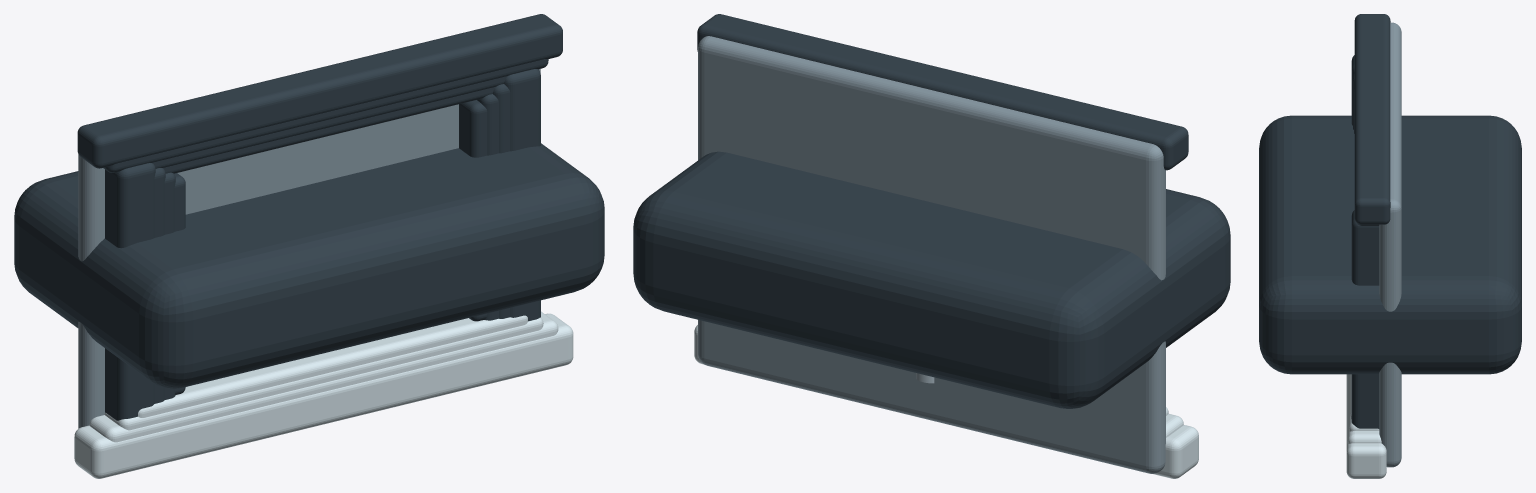
Rendered from body_33.glb.
3 renders of one model, left to right at view 1: azimuth 30°, elevation 25°; view 2: azimuth 150°, elevation 25°; view 3: azimuth 270°, elevation 25°, orthographic. The views are drawn at different scales.
Visible parts, largest first — view 1: asset_mesh__body_1484__reference_body, asset_mesh__body_1482__lower_flange, asset_mesh__body_1482__upper_flange, asset_mesh__body_1482__stamped_sheet, asset_mesh__body_1479__upper_flange, asset_mesh__body_1482__left_reinforcement, asset_mesh__body_1481__upper_flange, asset_mesh__body_1480__upper_flange, asset_mesh__body_1481__lower_flange, asset_mesh__body_1479__lower_flange, asset_mesh__body_1480__lower_flange, asset_mesh__body_1482__right_reinforcement (+6 smaller); view 2: asset_mesh__body_1484__reference_body, asset_mesh__body_1482__stamped_sheet, asset_mesh__body_1482__lower_flange, asset_mesh__body_1482__upper_flange; view 3: asset_mesh__body_1484__reference_body, asset_mesh__body_1482__lower_flange, asset_mesh__body_1482__stamped_sheet, asset_mesh__body_1482__right_reinforcement, asset_mesh__body_1482__upper_flange, asset_mesh__body_1481__upper_flange.
Boxes of the visible parts, x1=… form: asset_mesh__body_1484__reference_body: x1=14, y1=143, x2=604, y2=388; asset_mesh__body_1482__lower_flange: x1=77, y1=14, x2=562, y2=168; asset_mesh__body_1482__upper_flange: x1=74, y1=313, x2=573, y2=478; asset_mesh__body_1482__stamped_sheet: x1=78, y1=69, x2=540, y2=428; asset_mesh__body_1479__upper_flange: x1=138, y1=315, x2=527, y2=417; asset_mesh__body_1482__left_reinforcement: x1=105, y1=163, x2=155, y2=420; asset_mesh__body_1481__upper_flange: x1=89, y1=311, x2=558, y2=442; asset_mesh__body_1480__upper_flange: x1=104, y1=317, x2=543, y2=430; asset_mesh__body_1481__lower_flange: x1=103, y1=59, x2=548, y2=172; asset_mesh__body_1479__lower_flange: x1=163, y1=87, x2=495, y2=173; asset_mesh__body_1480__lower_flange: x1=152, y1=76, x2=507, y2=168; asset_mesh__body_1482__right_reinforcement: x1=504, y1=69, x2=540, y2=321; asset_mesh__body_1484__reference_body: x1=633, y1=151, x2=1230, y2=408; asset_mesh__body_1482__stamped_sheet: x1=698, y1=36, x2=1165, y2=473; asset_mesh__body_1482__lower_flange: x1=697, y1=14, x2=1188, y2=170; asset_mesh__body_1482__upper_flange: x1=694, y1=325, x2=1198, y2=478; asset_mesh__body_1484__reference_body: x1=1259, y1=115, x2=1521, y2=374; asset_mesh__body_1482__lower_flange: x1=1354, y1=14, x2=1390, y2=224; asset_mesh__body_1482__stamped_sheet: x1=1379, y1=22, x2=1401, y2=467; asset_mesh__body_1482__right_reinforcement: x1=1351, y1=210, x2=1379, y2=428; asset_mesh__body_1482__upper_flange: x1=1346, y1=374, x2=1386, y2=478; asset_mesh__body_1481__upper_flange: x1=1347, y1=374, x2=1381, y2=443.
Bounding box in the file's own units: 1.54 × 1.03 × 0.882.
